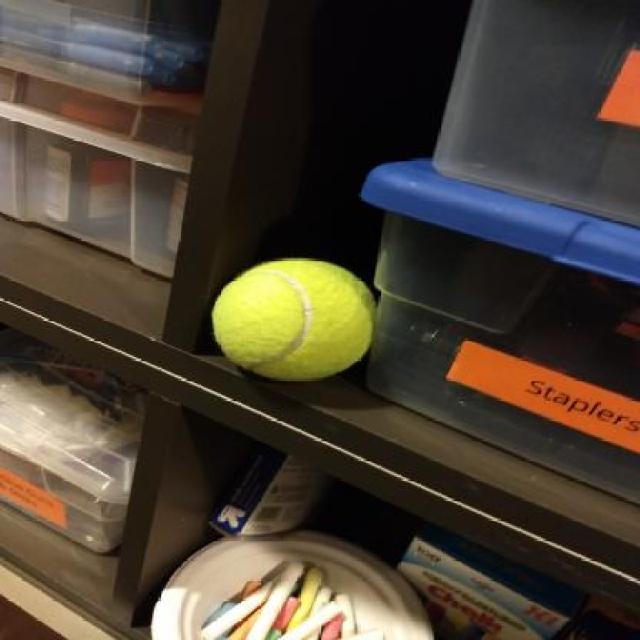Tennis_Ball: (209, 257, 374, 388)
